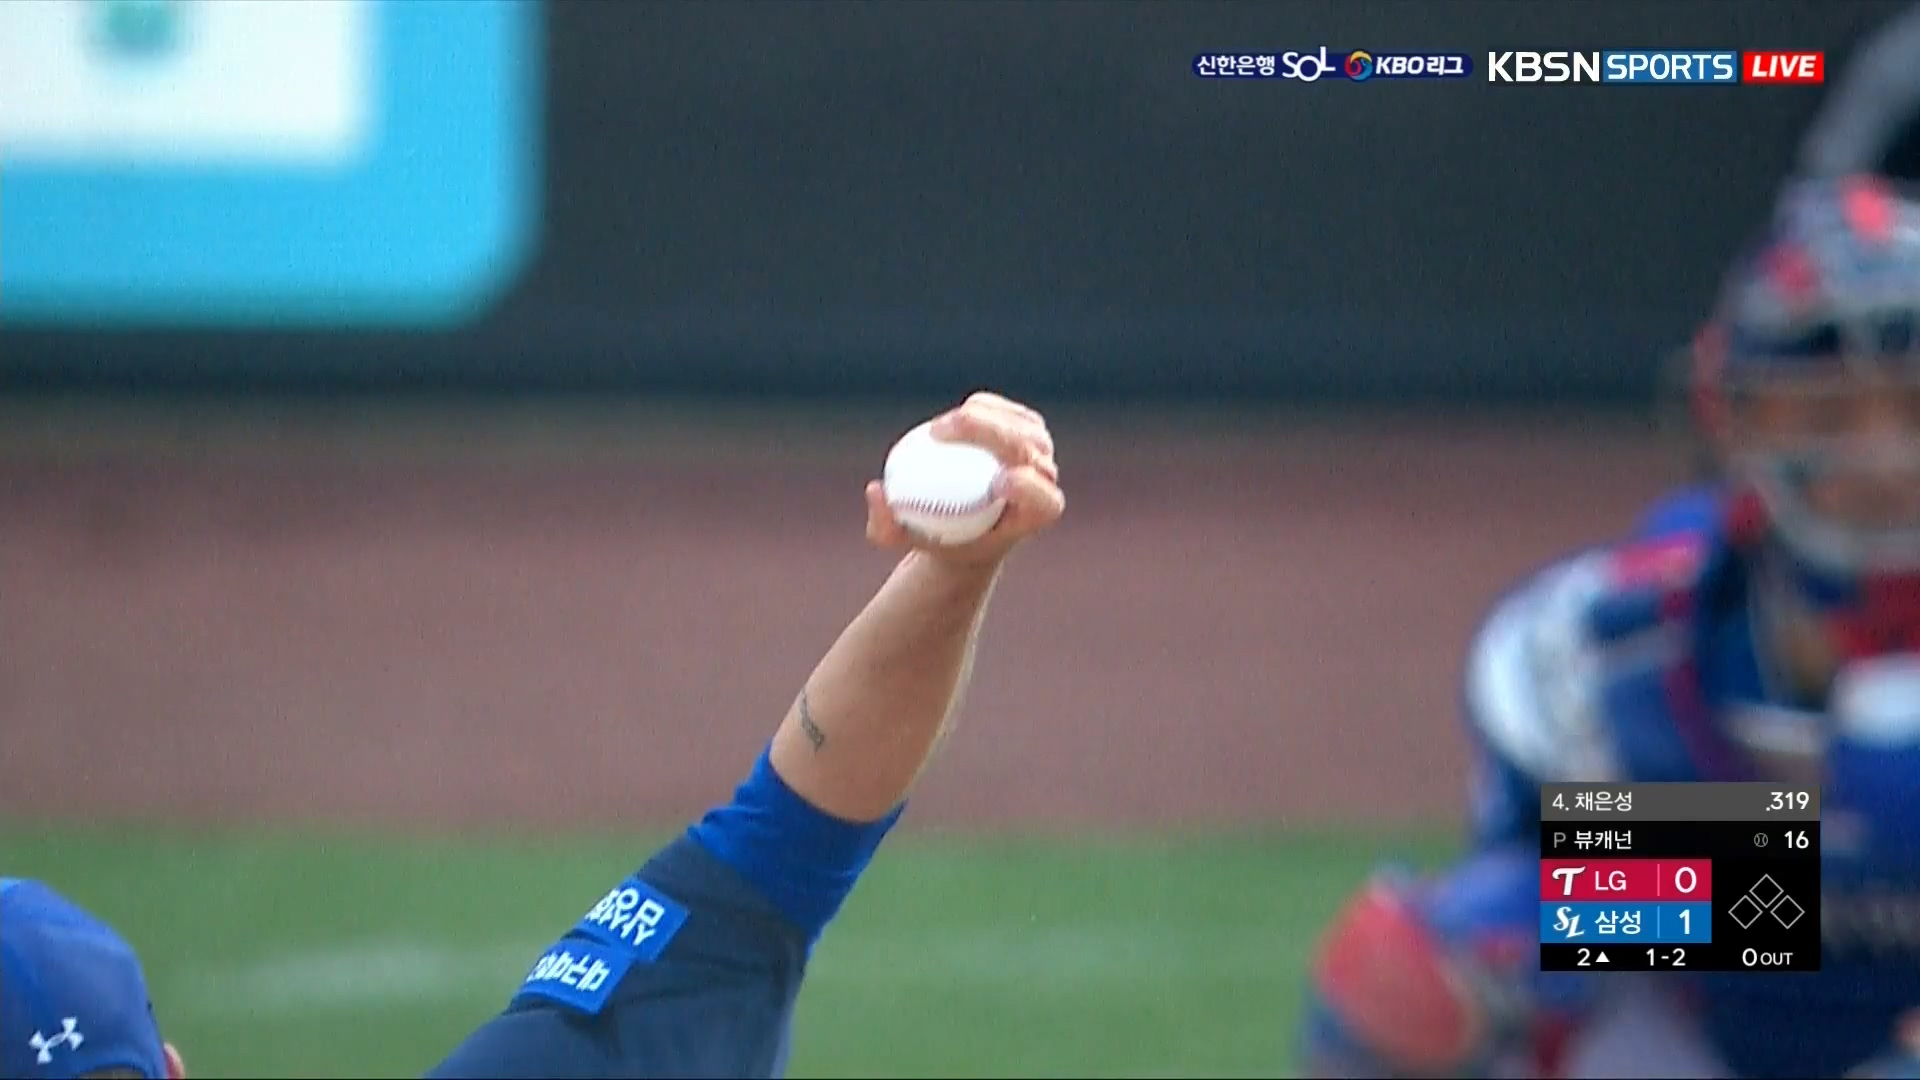zoomin_hand: (712, 386, 1075, 935)
